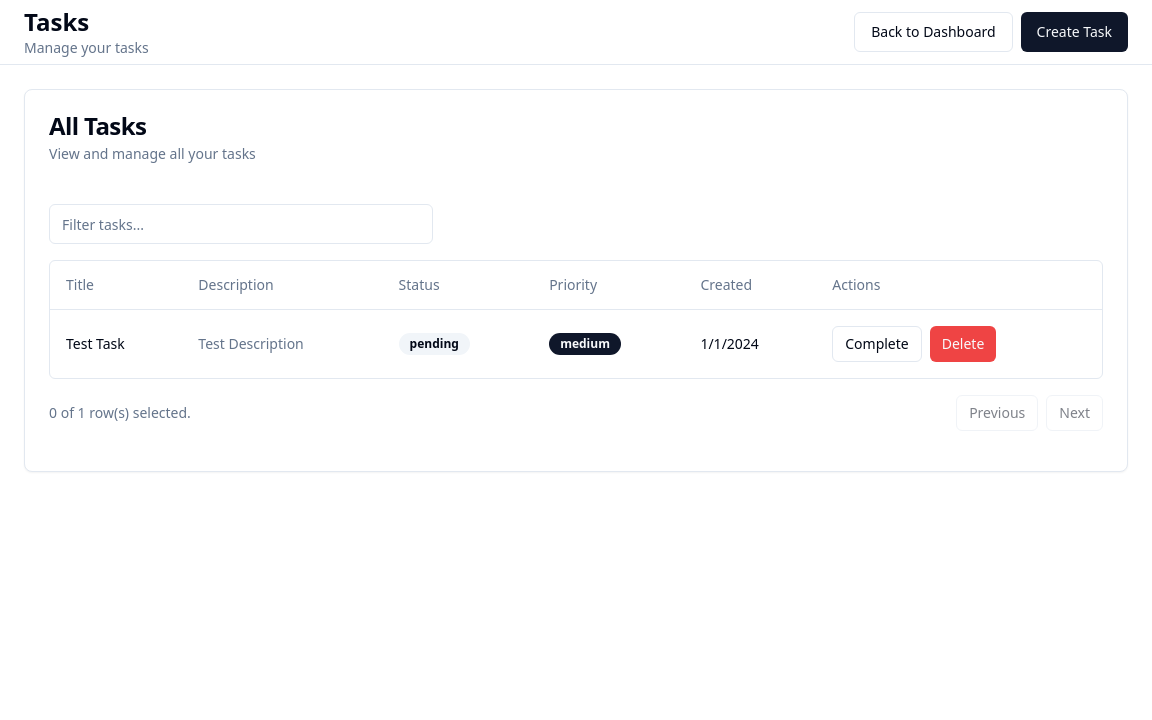
Test case: Task Creation and Dashboard Flow › Task Creation Flow › should handle API errors gracefully
The image size is (1152, 720).
Check: the heading "Tasks" is shown, box x1=24 y1=5 x2=89 y2=38
# Click the "Create Task" button
Click the button "Create Task": (1074, 32) x1=1021 y1=12 x2=1128 y2=52
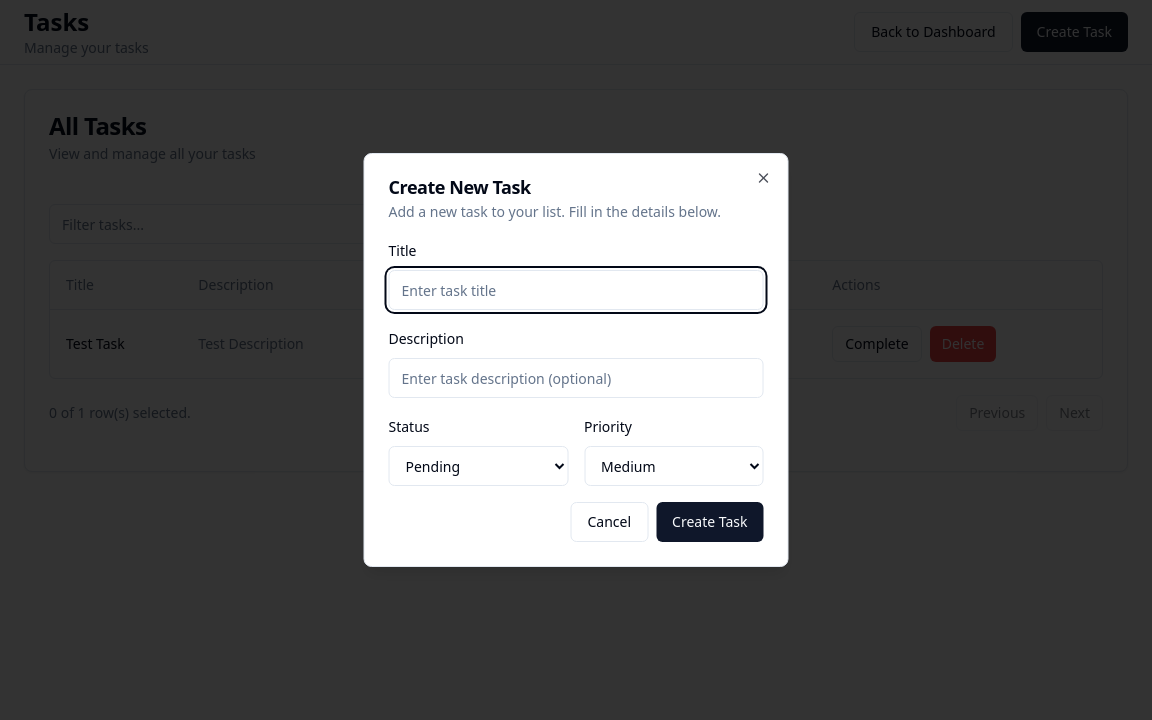
Check: the heading "Create New Task" is shown, box x1=388 y1=175 x2=531 y2=199
# Fill in the task form
In the field labelled "Title": (576, 290) x1=388 y1=270 x2=764 y2=310, type "Test Task"
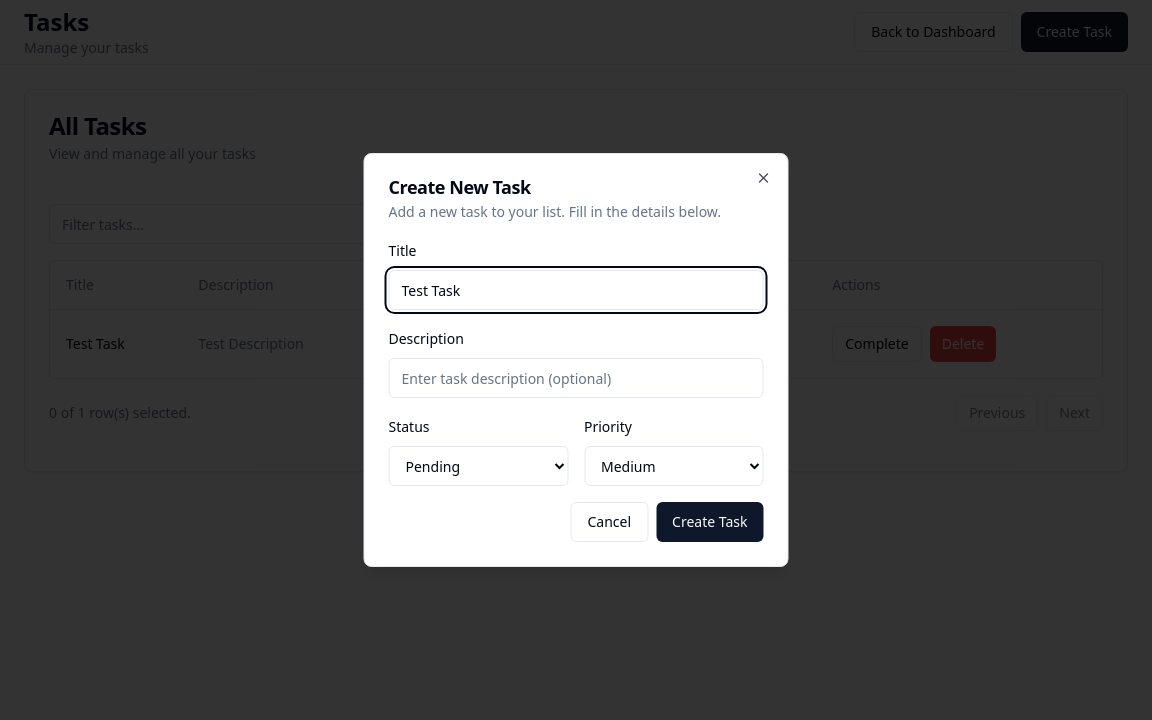
# Submit the form
Click the button "Create Task": (710, 522) x1=656 y1=502 x2=764 y2=542
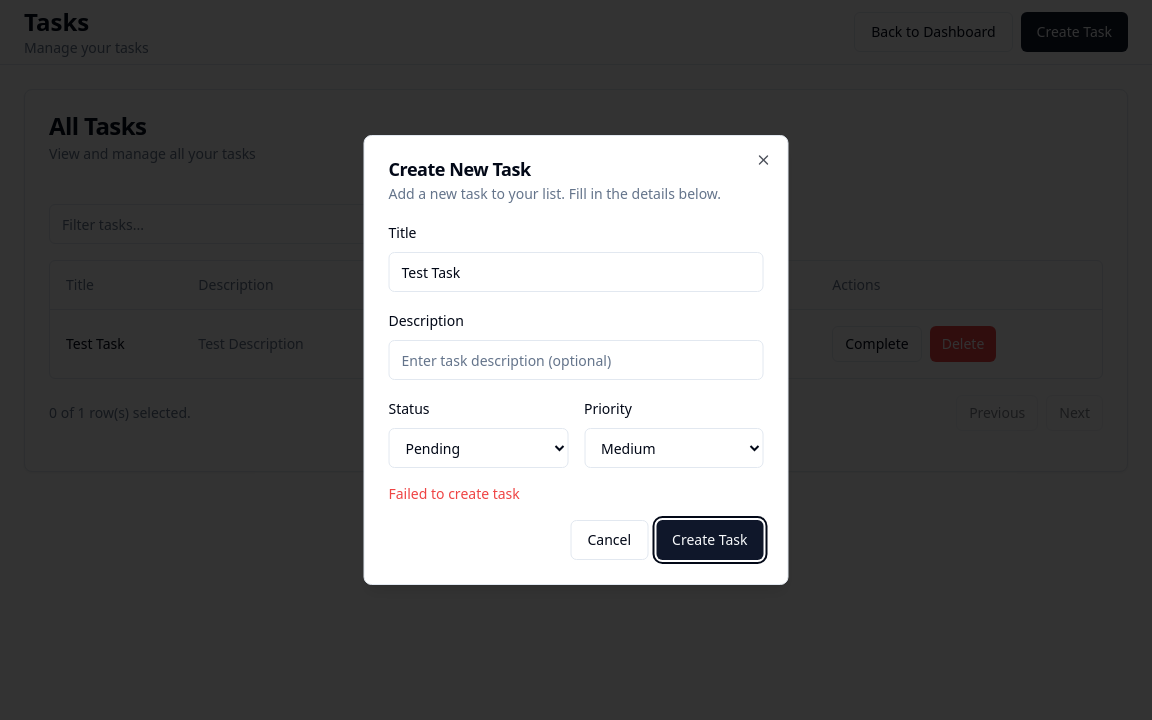
Check: the text "Failed to create task" is shown, box x1=388 y1=484 x2=520 y2=503
